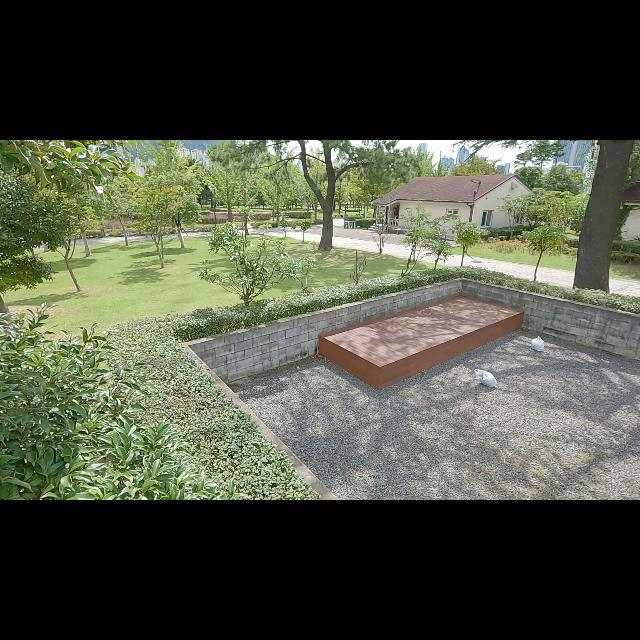trash: (474, 368, 498, 388), (530, 336, 546, 352)
